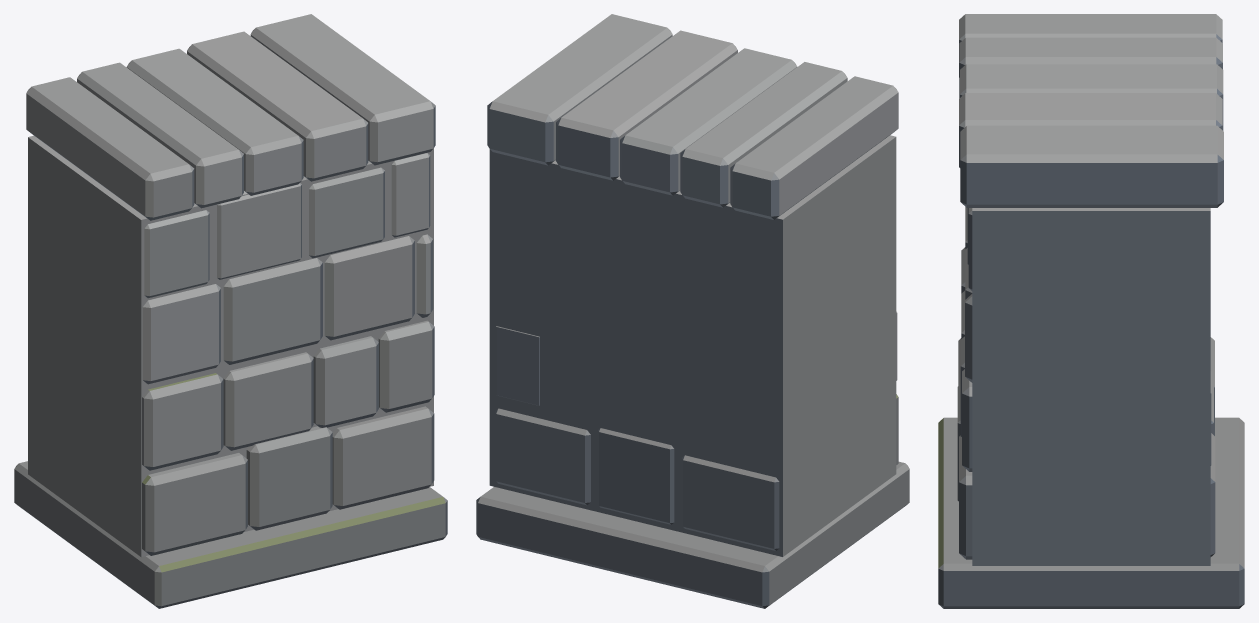
Rendered from great_wall.glb.
3 renders of one model, left to right at view 1: azimuth 30°, elevation 25°; view 2: azimuth 150°, elevation 25°; view 3: azimuth 270°, elevation 25°, orthographic. The views are drawn at different scales.
Parts seen in each view (by area): view 1: great_wall; view 2: great_wall; view 3: great_wall.
Boxes of the visible parts, <box> form: great_wall: <box>14,14,447,608</box>; great_wall: <box>476,14,909,608</box>; great_wall: <box>938,14,1244,608</box>.
Size of the model in its own units: 10 by 14.06 by 8.6.
